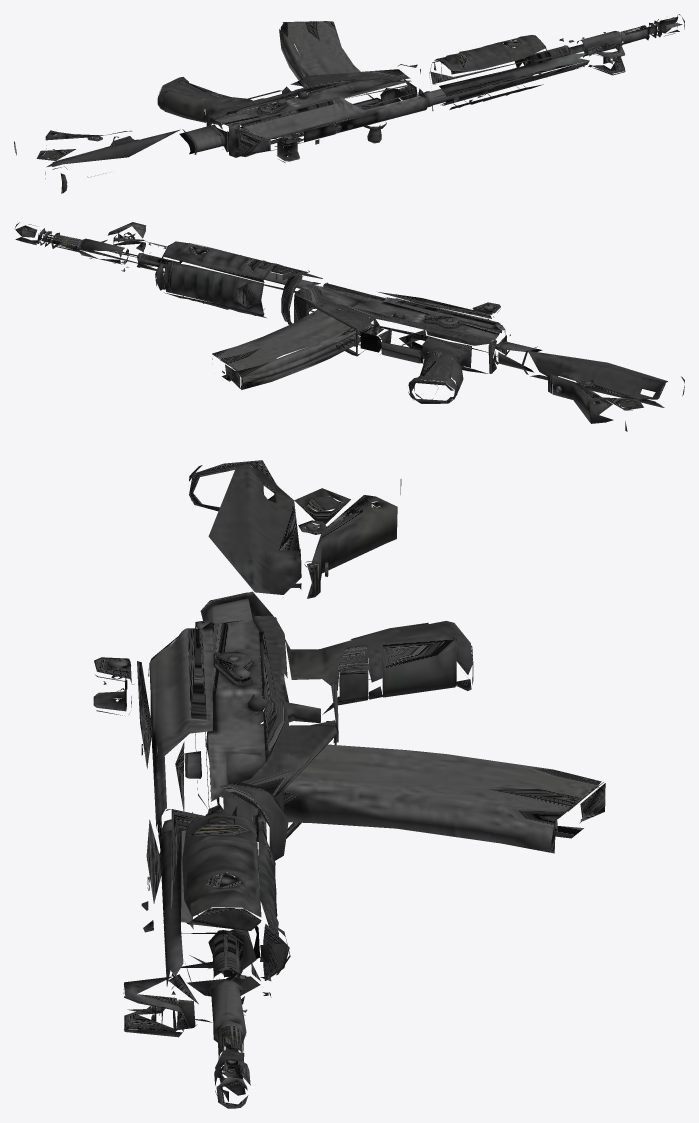
Rendered from p_galil.glb.
The picture shows the model from 3 angles, top to bottom: view 1: azimuth 30°, elevation 25°; view 2: azimuth 150°, elevation 25°; view 3: azimuth 270°, elevation 25°; orthographic projection. The views are drawn at different scales.
Visible parts, largest first — view 1: p_galil; view 2: p_galil; view 3: p_galil.
Boxes of the visible parts, bbox=[...] form: p_galil: bbox=[14, 14, 684, 193]; p_galil: bbox=[14, 222, 684, 431]; p_galil: bbox=[93, 460, 605, 1108].
Size of the model in its own units: 1.13 by 0.1042 by 0.3992.
1 material, 1 textured.
